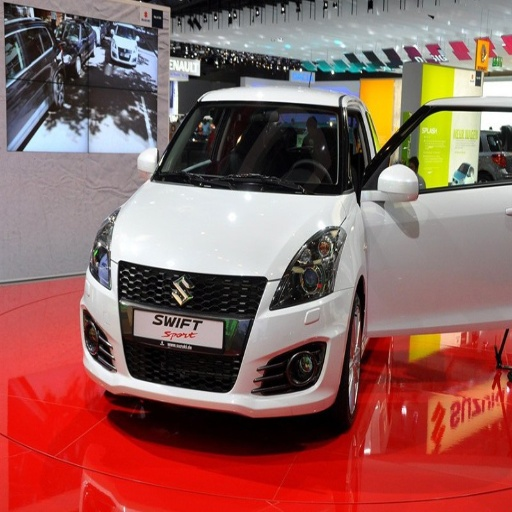front_bumper: (84, 257, 353, 418)
front_glass: (152, 104, 364, 194)
front_left_door: (373, 139, 462, 337)
front_right_light: (88, 225, 113, 289)
